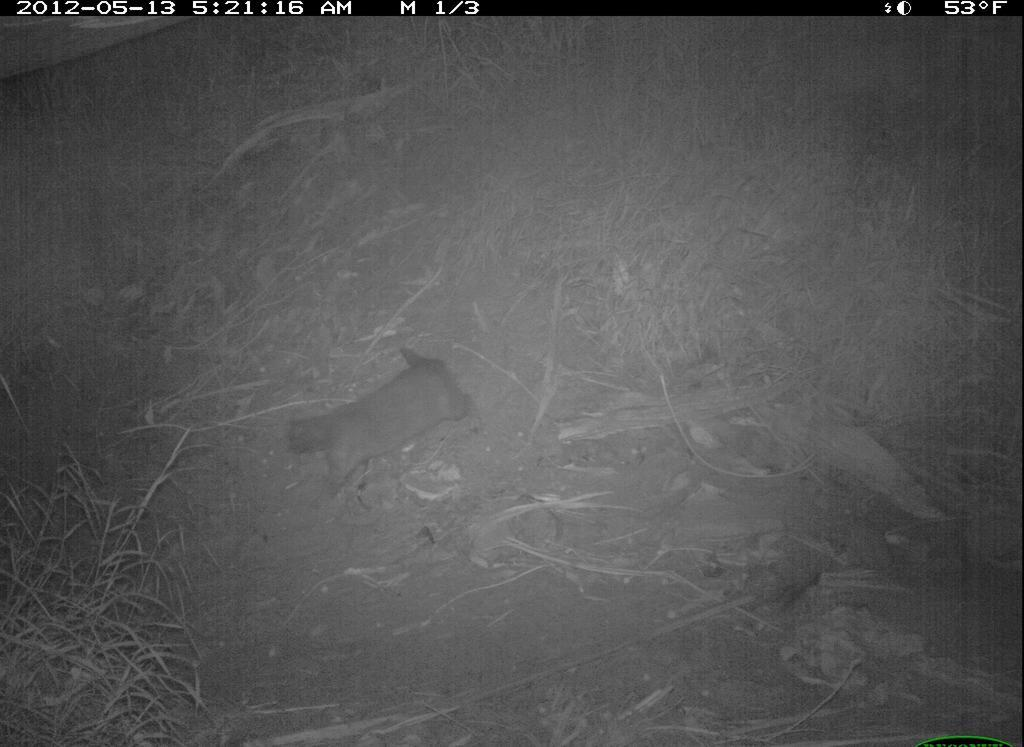cat: (291, 340, 486, 497)
